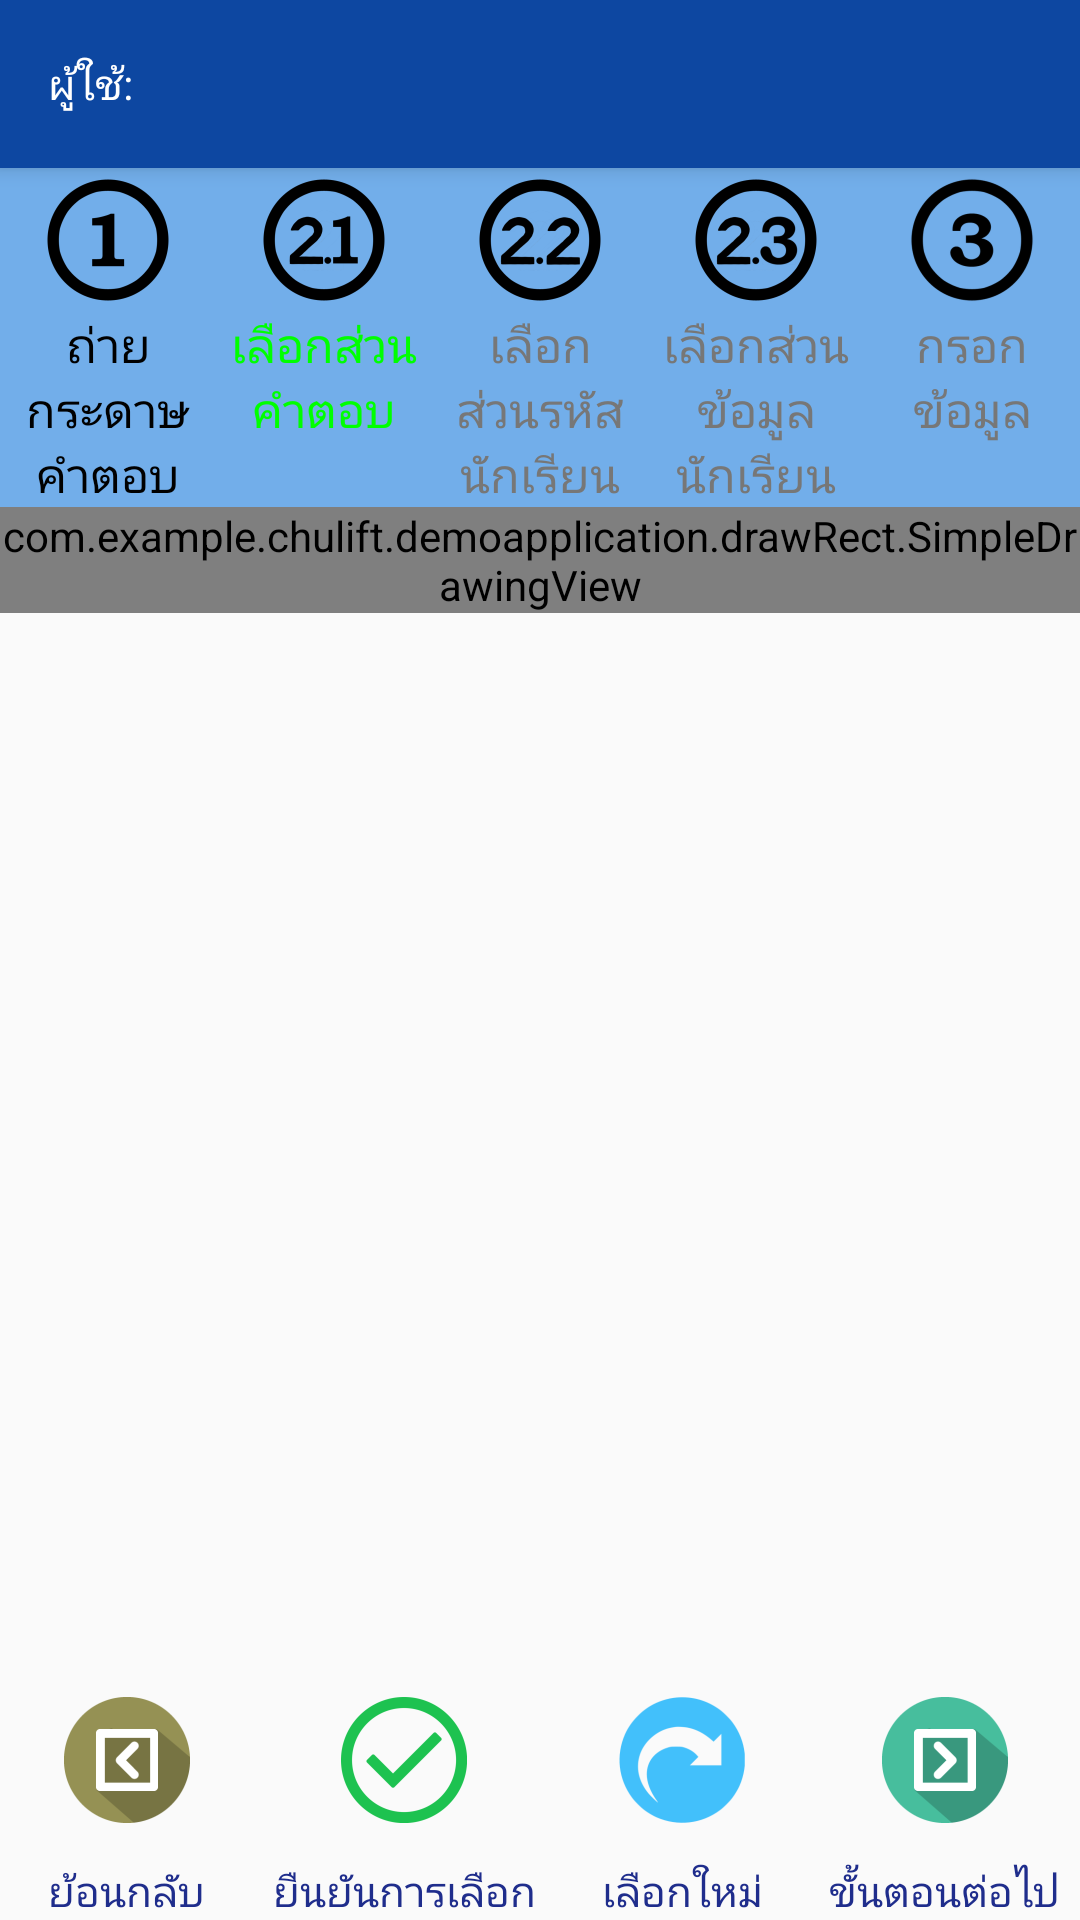

Locate icon controls on the screen. Image size 1080px x 1920px, boxes as (x1, y1, x2, y2).
ถัดไป: (882, 1697, 1008, 1823)
